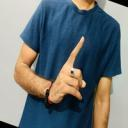hand: (47, 35, 86, 105)
